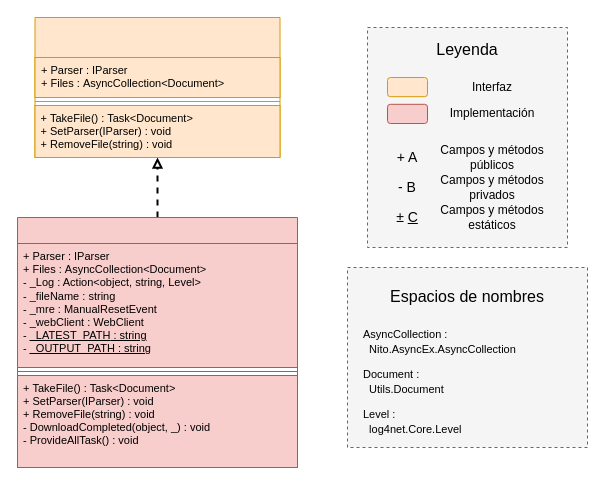
Image size: 605x488. Some labels were removed from this diagram. Each missing label, with the box of its shape:
<<interface>> IProvider: (34, 16, 280, 158)
Provider: (16, 216, 298, 468)
